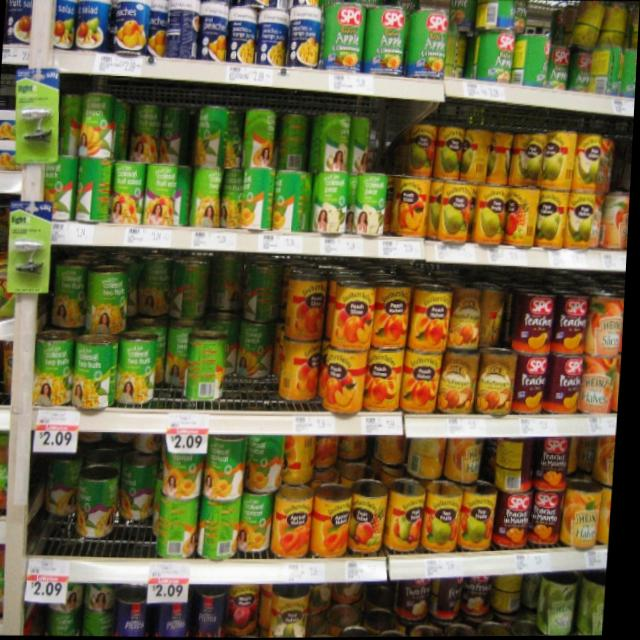q91: (22, 333, 78, 415), (154, 487, 210, 569), (114, 335, 163, 424), (162, 423, 214, 502), (234, 102, 287, 169), (273, 168, 321, 241), (45, 265, 91, 341), (201, 436, 248, 507), (84, 273, 128, 347), (225, 185, 276, 247), (320, 111, 365, 181), (76, 78, 114, 160), (187, 94, 230, 162), (82, 347, 122, 416), (116, 152, 151, 226), (211, 502, 247, 572), (145, 159, 181, 227), (189, 171, 227, 231), (312, 182, 349, 243), (354, 177, 390, 230)
